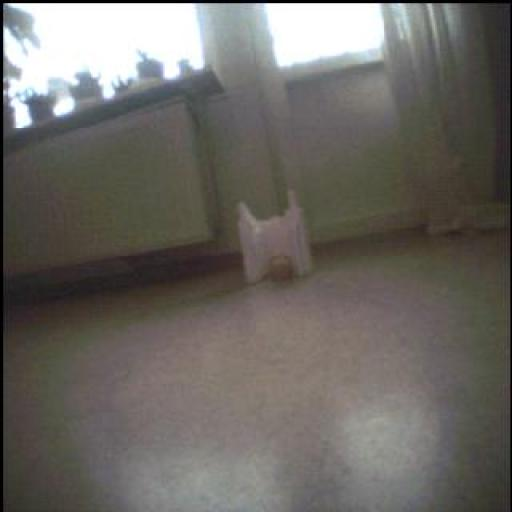Basket: (266, 252, 298, 287)
